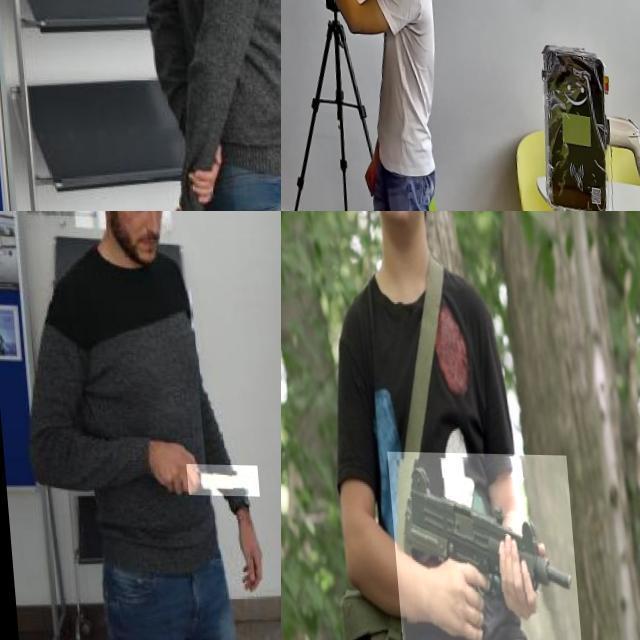-: (178, 464, 252, 496)
gun-knife-thesis - v11 Yolov5 augmented: (380, 450, 573, 640), (281, 0, 327, 43)
